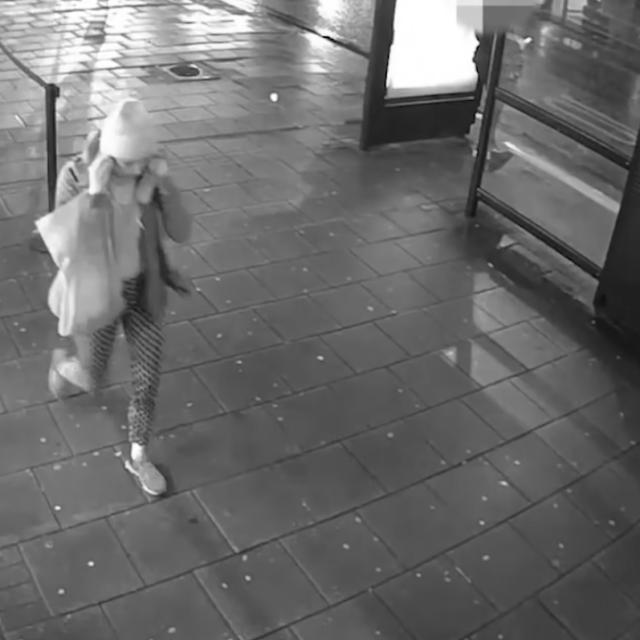Invader: (44, 98, 193, 498)
